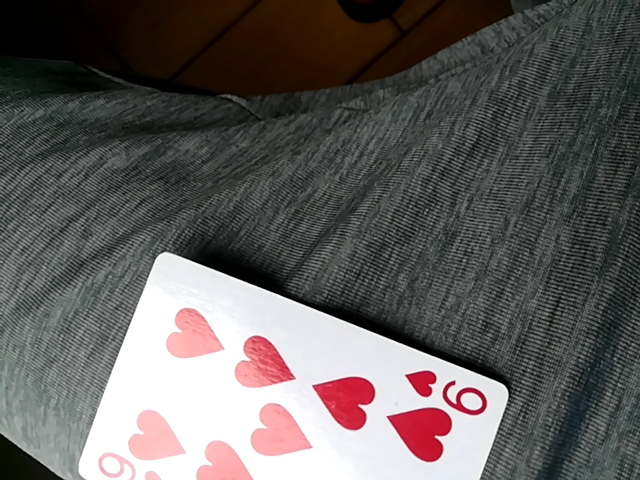hx 9: (82, 249, 502, 480)
